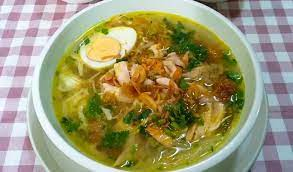soto: (9, 7, 285, 172)
